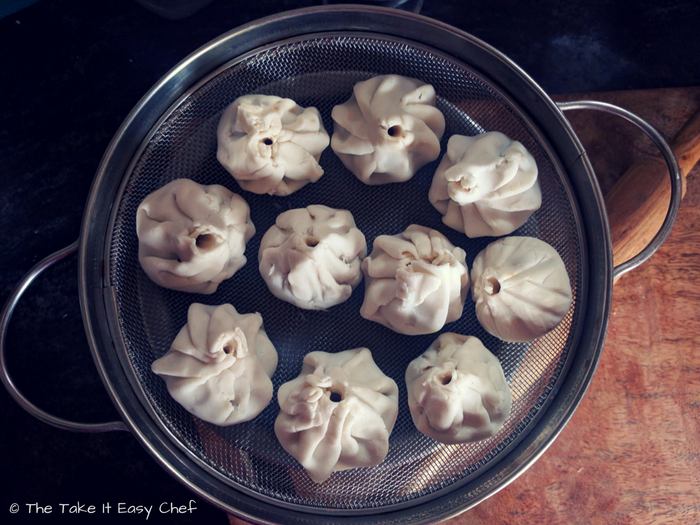modak: (274, 352, 411, 485), (162, 300, 277, 424), (131, 179, 253, 287), (395, 334, 518, 438), (232, 85, 339, 204), (259, 199, 368, 313), (430, 126, 548, 231), (330, 77, 441, 187), (467, 240, 576, 346), (364, 224, 472, 328)
